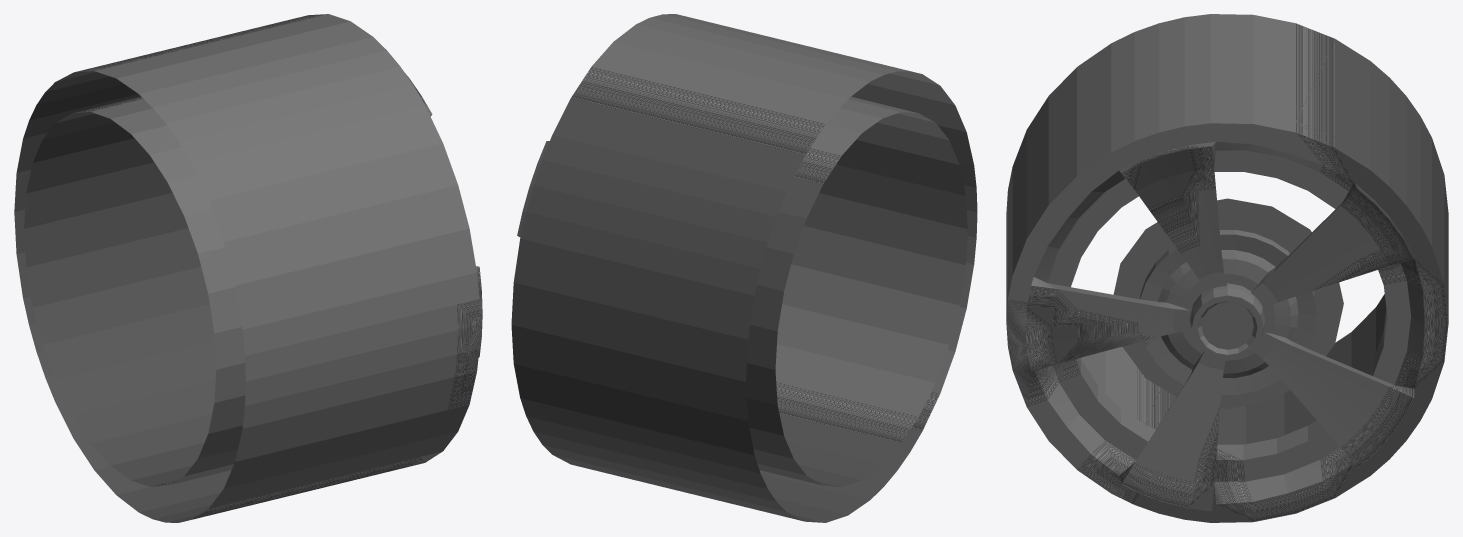
The model's file is rinIzq.obj.
The picture shows the model from 3 angles, left to right: view 1: azimuth 30°, elevation 25°; view 2: azimuth 150°, elevation 25°; view 3: azimuth 270°, elevation 25°; orthographic projection. The views are drawn at different scales.
Visible parts, largest first — view 1: rin.001_Material.017; view 2: rin.001_Material.017; view 3: rin.001_Material.017.
Part boxes in pixels (x1=…): rin.001_Material.017: x1=14, y1=14, x2=482, y2=522; rin.001_Material.017: x1=511, y1=14, x2=977, y2=522; rin.001_Material.017: x1=1006, y1=14, x2=1448, y2=522.
Bounding box in the file's own units: 0.5798 × 0.9031 × 0.9057.
Materials: 1 (1 with a texture image).
